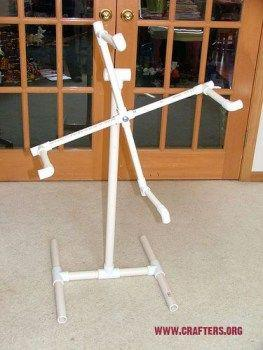PVC: (129, 79, 248, 113), (101, 126, 121, 266), (31, 125, 98, 158), (97, 33, 125, 109), (49, 236, 67, 326), (67, 266, 152, 284), (157, 273, 179, 311), (139, 231, 157, 265)
